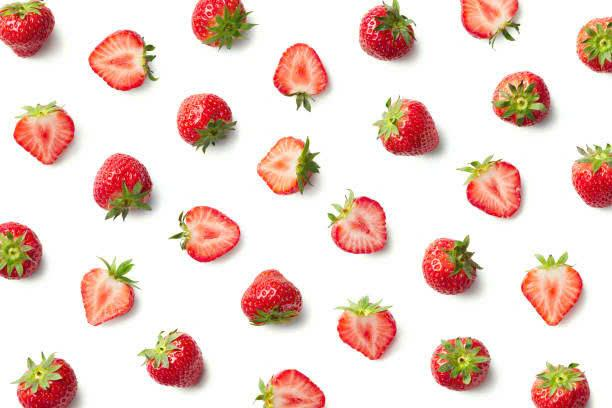strawberry: (134, 318, 231, 407), (510, 241, 595, 333), (79, 144, 165, 234), (90, 18, 164, 112), (245, 127, 324, 207), (511, 335, 592, 408), (347, 10, 454, 64), (435, 0, 529, 60), (219, 266, 305, 329), (325, 184, 395, 261), (338, 295, 413, 363), (543, 0, 612, 72), (420, 213, 481, 294), (176, 190, 242, 264), (466, 149, 540, 215), (421, 328, 491, 394), (85, 245, 133, 339), (494, 58, 558, 126), (16, 95, 83, 159), (5, 210, 58, 289), (239, 353, 315, 408), (550, 143, 612, 210), (191, 0, 252, 68), (18, 338, 79, 406), (275, 25, 320, 116), (382, 88, 440, 158), (0, 1, 62, 62), (171, 90, 232, 145)
